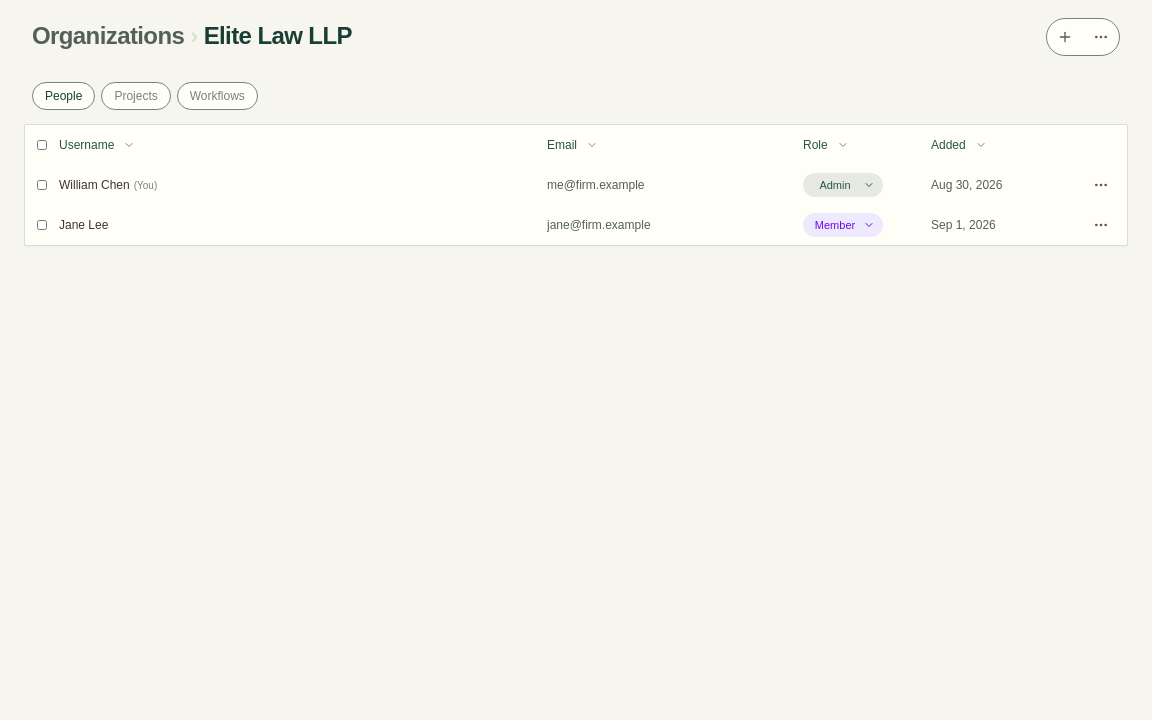
Test: OrganizationWorkspace › offers add-member and settings actions only to admins
expect the text "William Chen" is shown: met, box [59,177,130,193]
Click the button named "Add member". click: (1065, 37)
box: [1051,23,1079,51]
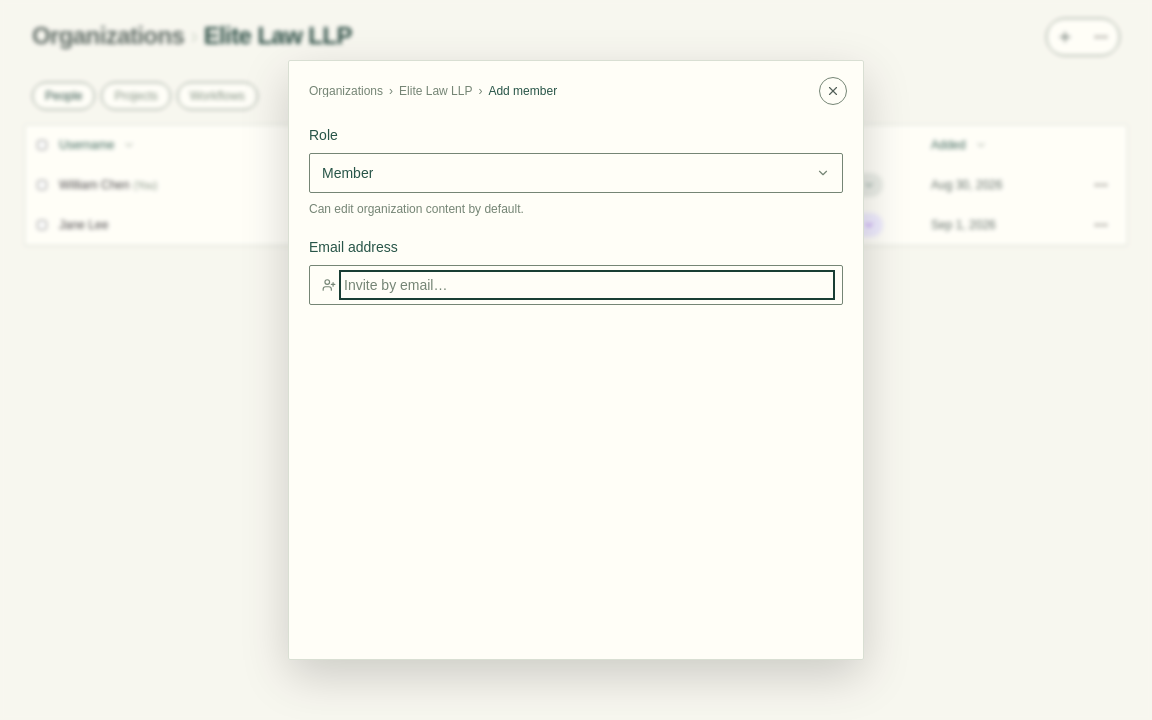
expect the text "Email address" is shown: met, box [309,239,398,255]
Press Escape
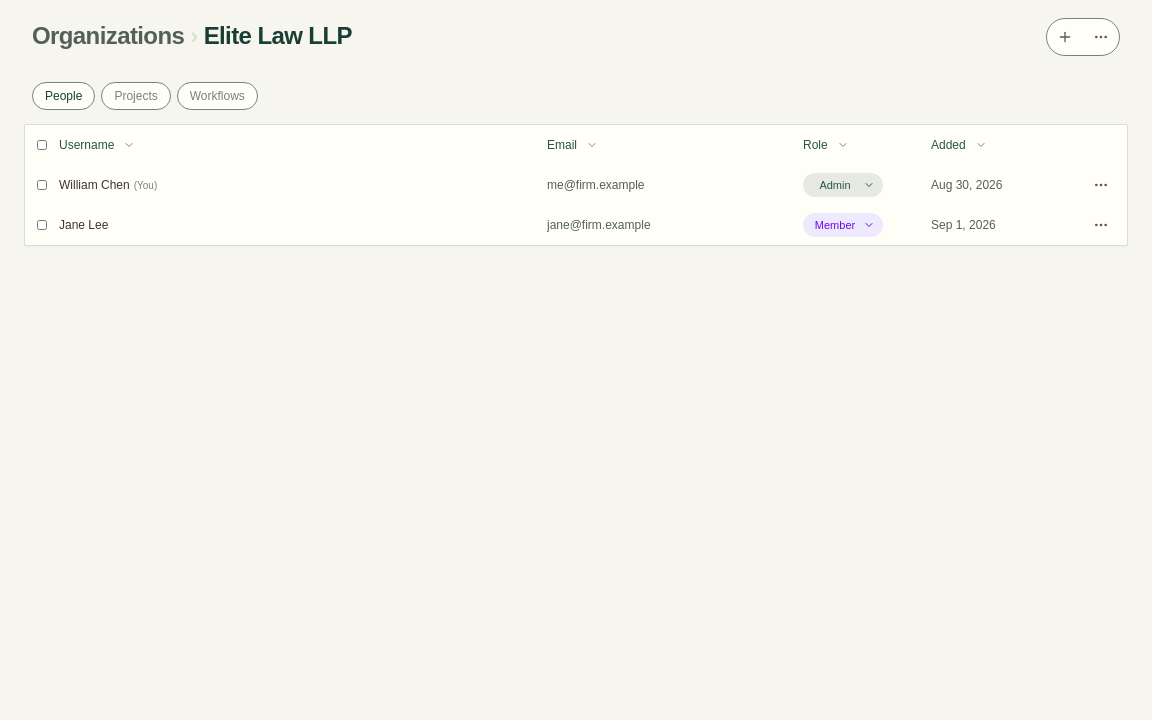
Click the button named "Organization settings". click: (1101, 37)
box: [1087,23,1115,51]
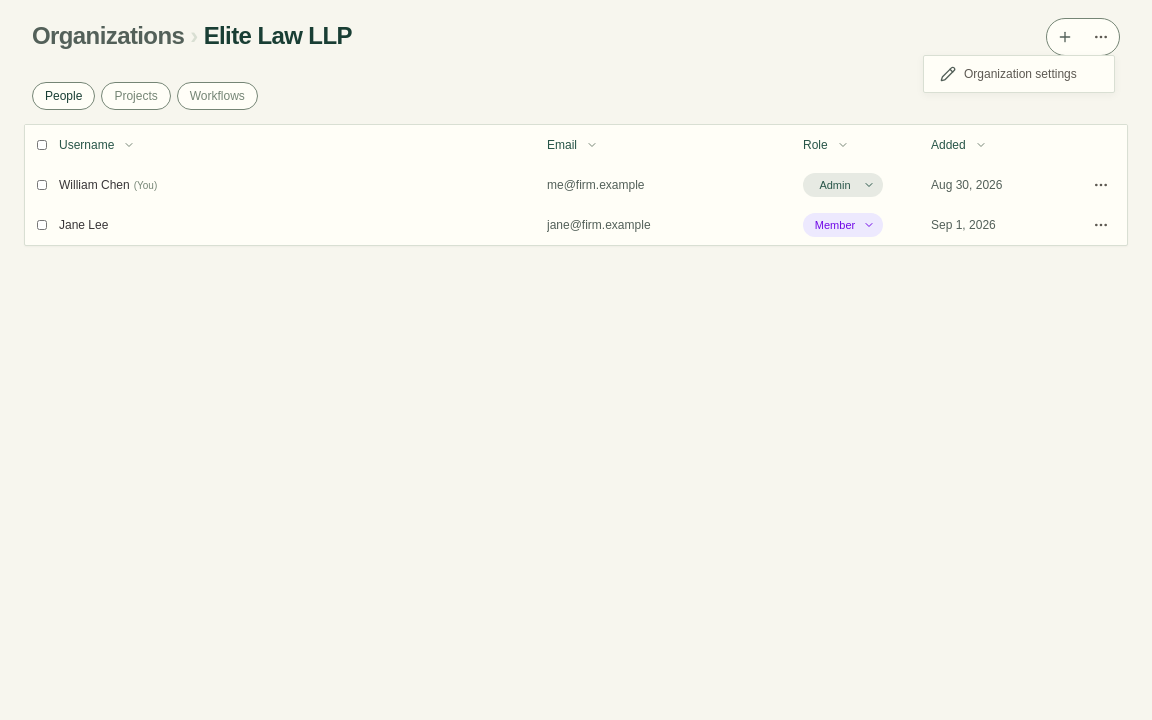
Click the menu item "Organization settings". click: (1008, 74)
box: [940,66,1077,82]
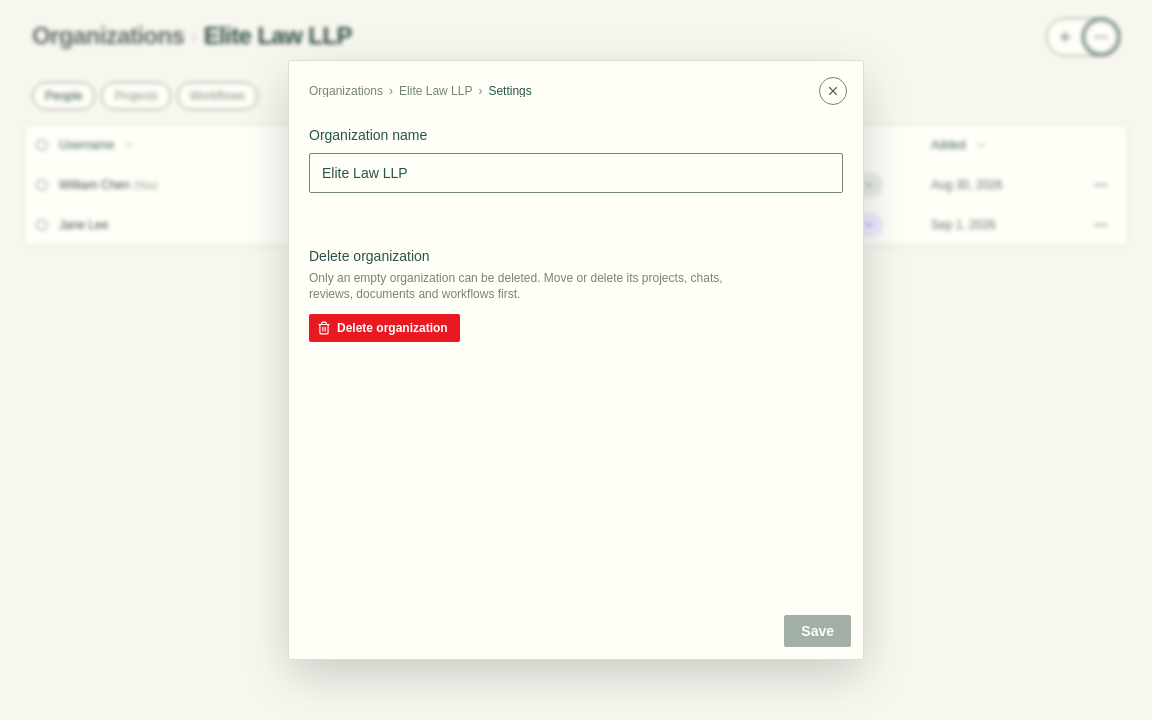
expect the field labelled "Organization name" holds "Elite Law LLP": met, box [309,153,843,193]
